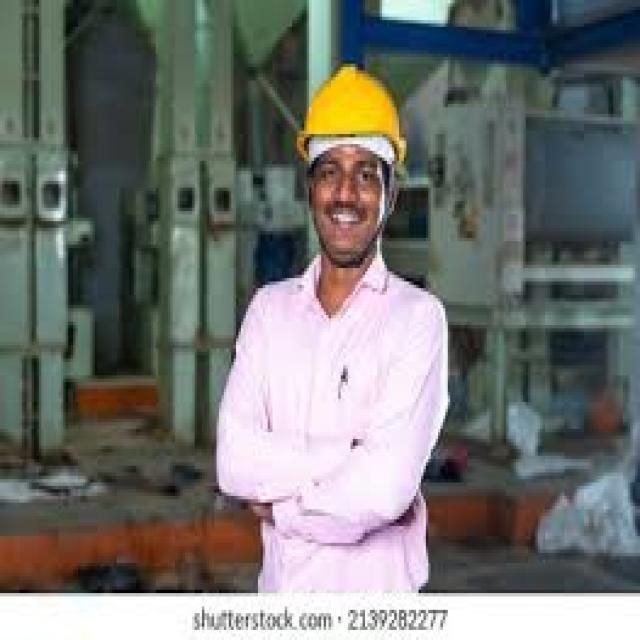Safety-Helmet: (292, 57, 416, 181)
